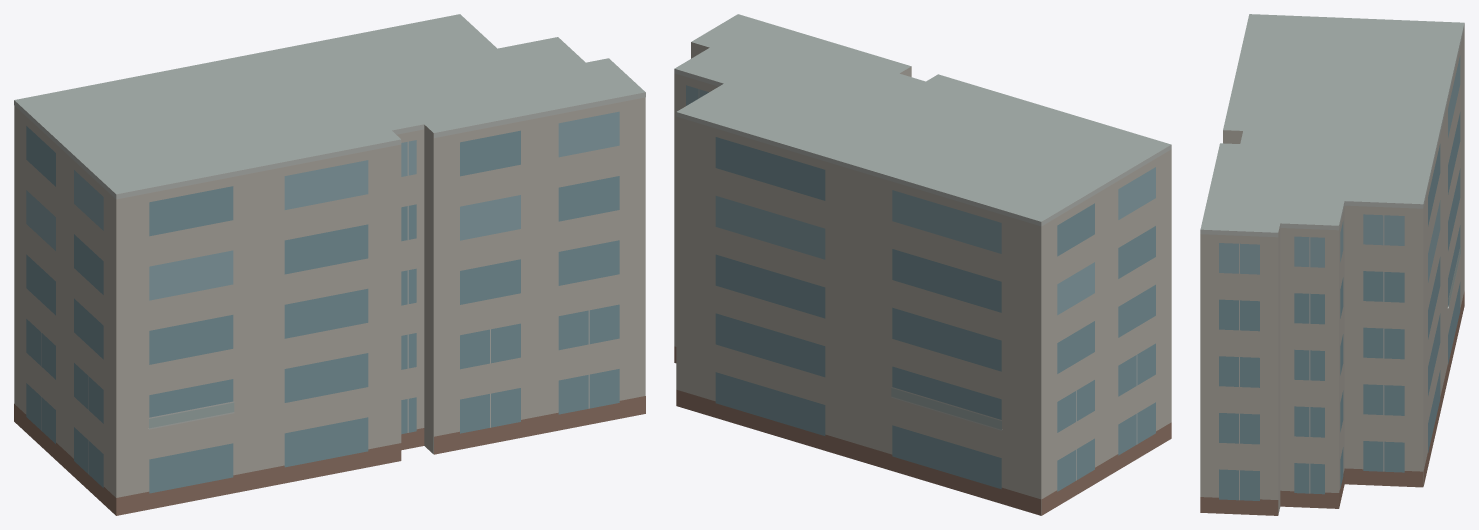
Rendered from survey-upis-32970650.glb.
3 views of the same model, side by side, from view 1: azimuth 30°, elevation 25°; view 2: azimuth 150°, elevation 25°; view 3: azimuth 270°, elevation 25° (orthographic). The views are drawn at different scales.
Visible parts, largest first — view 1: survey-upis-32970650.tmp; view 2: survey-upis-32970650.tmp; view 3: survey-upis-32970650.tmp.
Boxes of the visible parts, x1=… form: survey-upis-32970650.tmp: x1=14, y1=14, x2=645, y2=515; survey-upis-32970650.tmp: x1=674, y1=14, x2=1171, y2=515; survey-upis-32970650.tmp: x1=1200, y1=14, x2=1464, y2=515.
Bounding box in the file's own units: 25.53 × 15.4 × 13.03.
